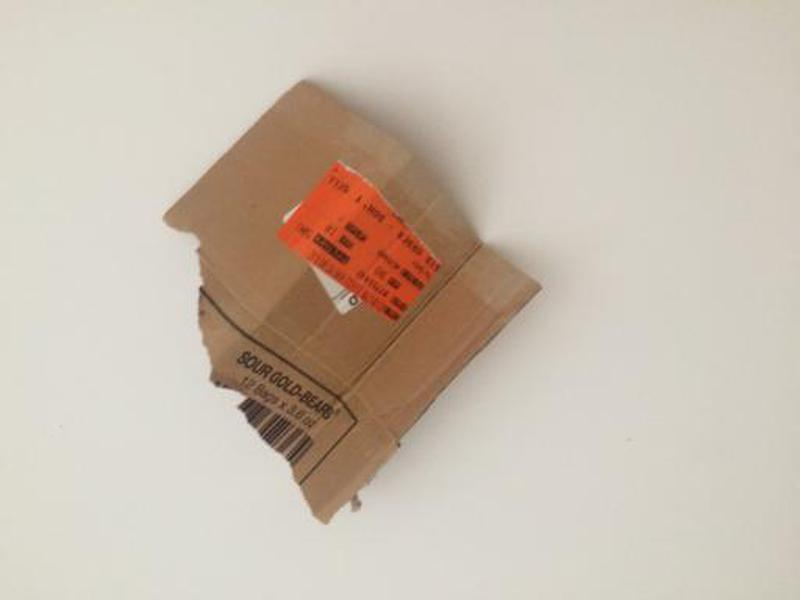cardboard: (158, 79, 547, 525)
